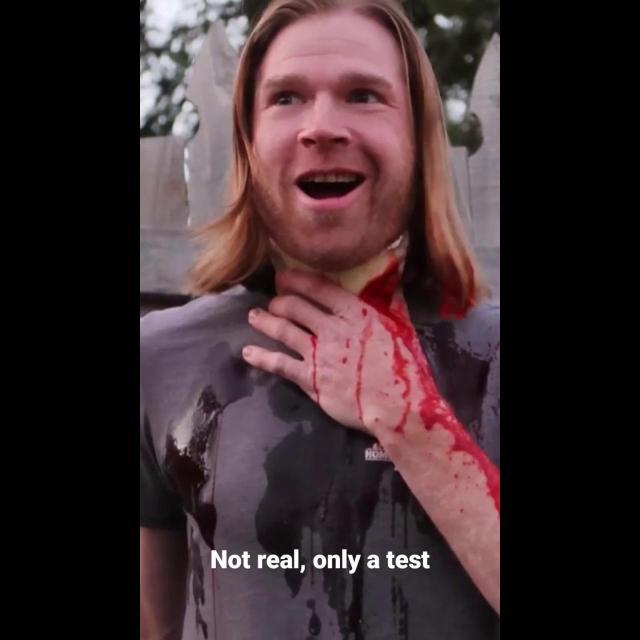blood: (358, 260, 500, 516), (416, 300, 500, 467), (336, 294, 388, 436), (388, 354, 410, 437), (304, 334, 322, 408)
